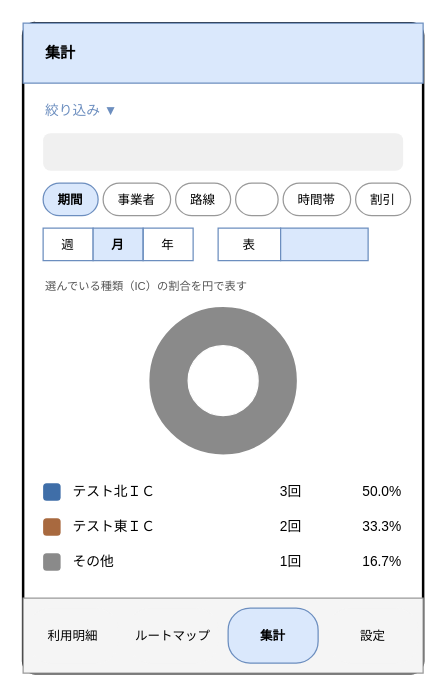
The diagram is 445 pixels wide and 695 high, and some of its shapes have lost their labels. Each missing label, with the centre of its shape:
"IC" belongs at point 256,199.
"グラフ" belongs at point 323,244.
"回数 3回 利用額 2,880円 割引額 720円 距離 9.0km" belongs at point 222,151.
